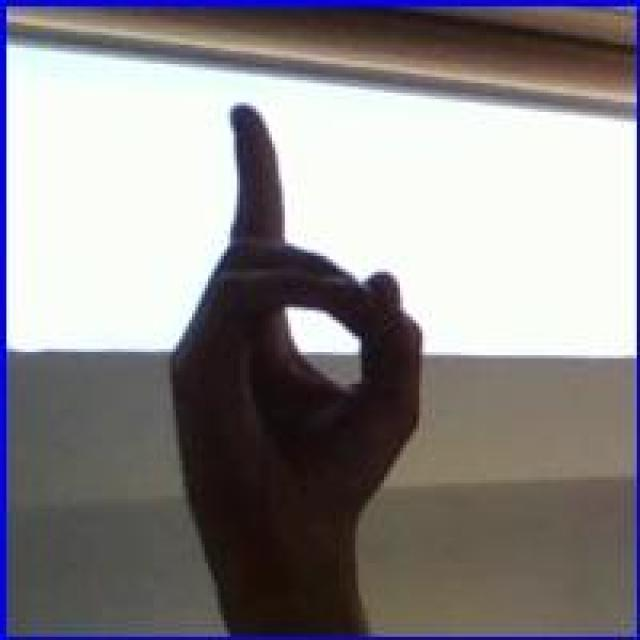D: (167, 94, 426, 616)
